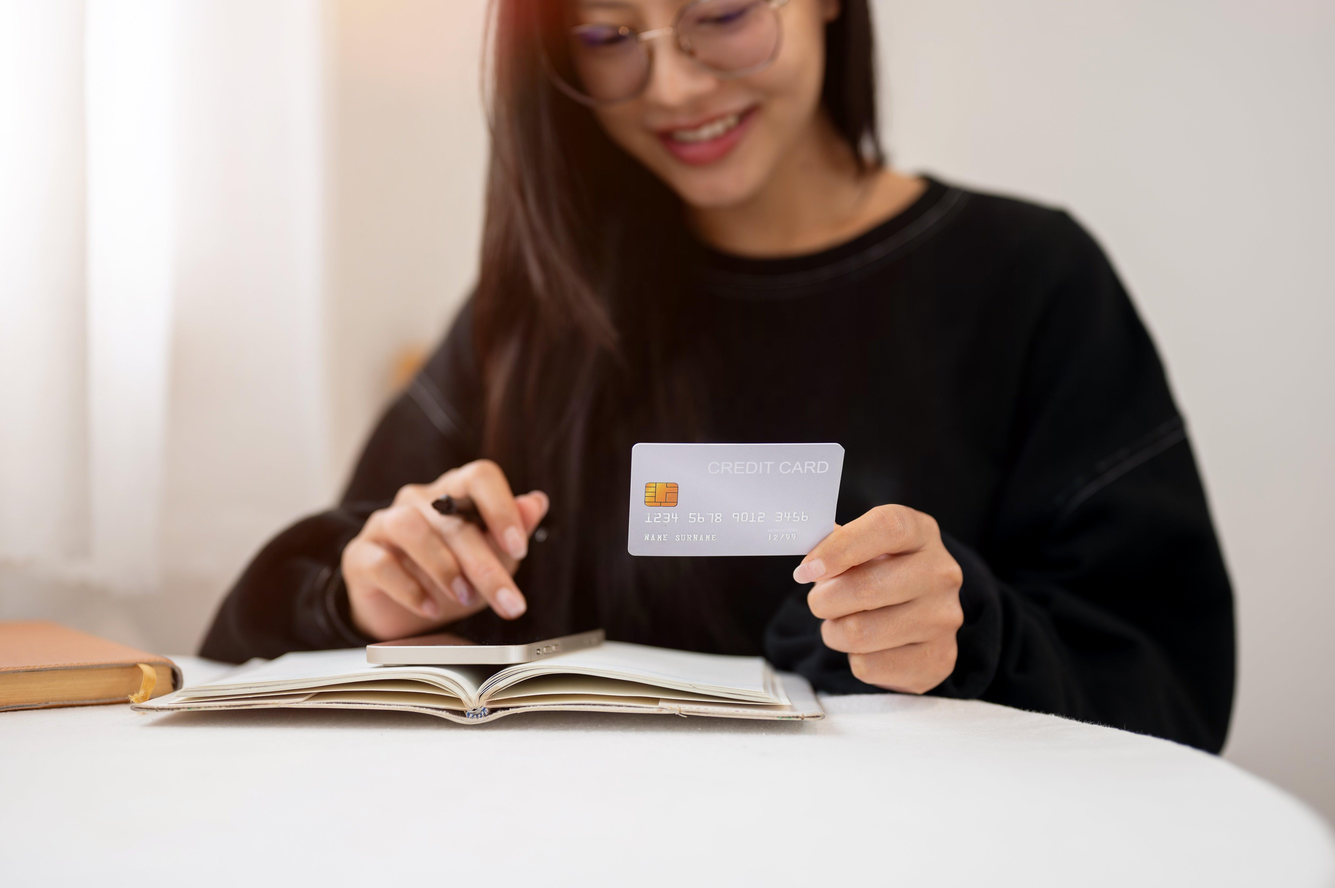Credit_card: (628, 443, 844, 557)
